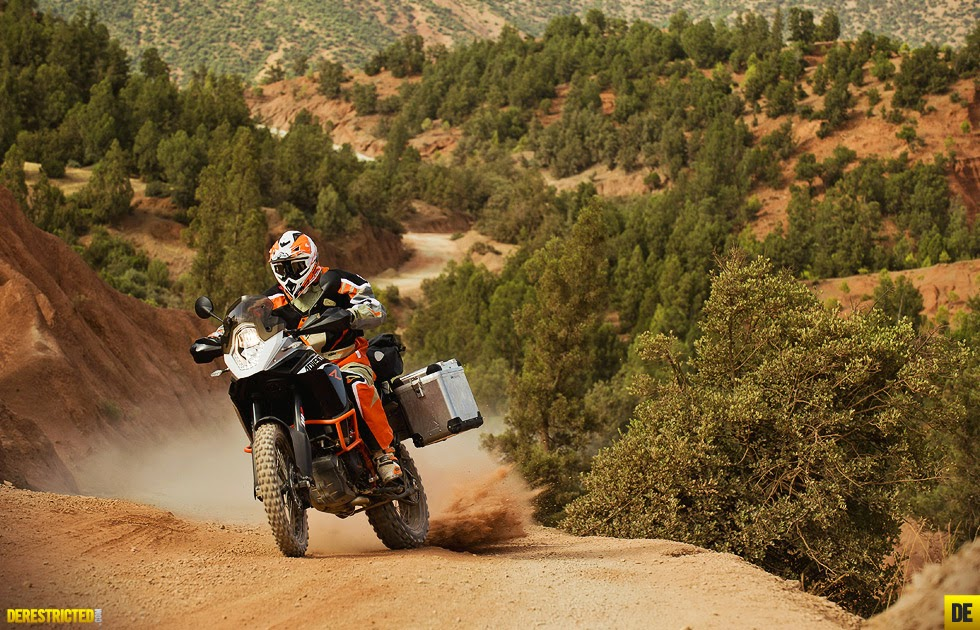helmet: (268, 228, 320, 300)
